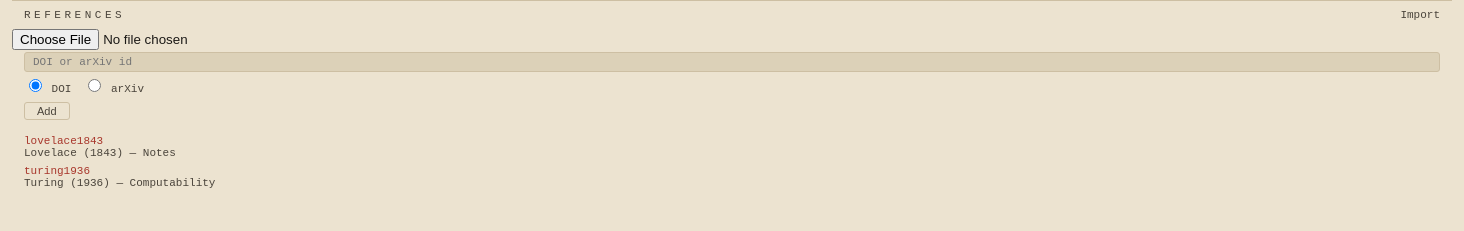
BibPanel › reports when a reference could not be added
This screenshot has width=1464, height=231.
Step 1. Type "bad" into the search field labelled "DOI or arXiv id" → point(732, 62), box [24,52,1440,72]
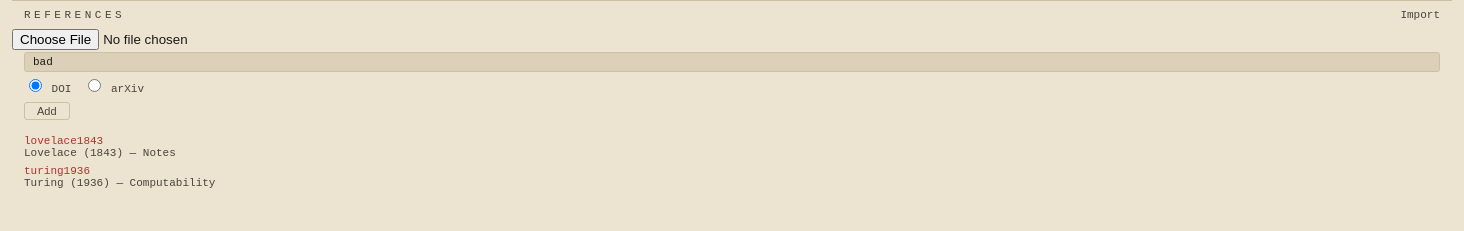
Step 2. Submit the form with class "lookup", box [12,52,1452,128]
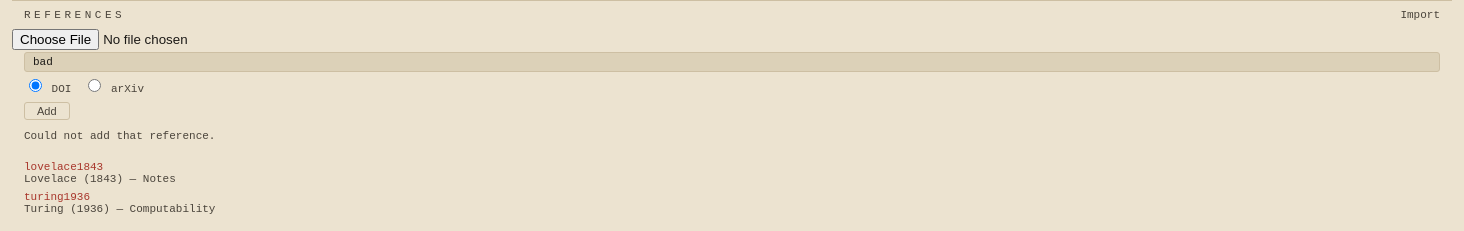
Expected: the message with class "status" reads "Could not add that reference.", [24,130,215,142]
